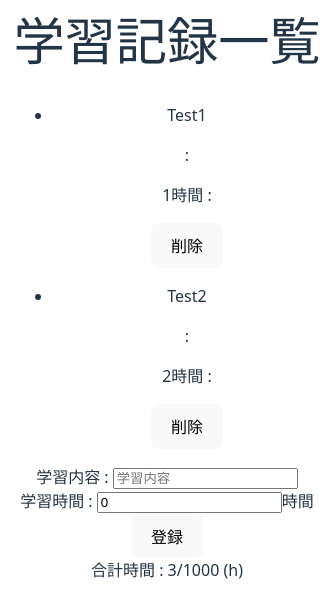
Test: App.tsxテスト › 削除ボタンを押すと学習記録が削除される
Click the button "削除" below "Test2" at {"x": 187, "y": 426}, box [151,404,223,449]
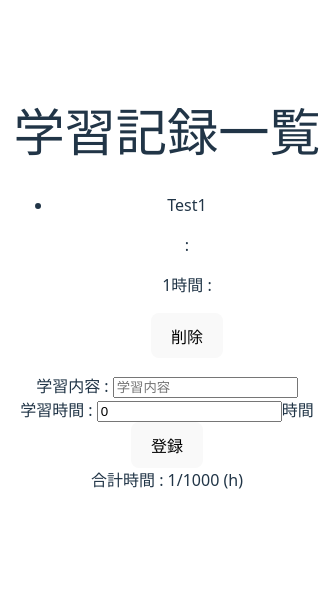
Result: the number of list items is 1 at [151,194,223,358]
